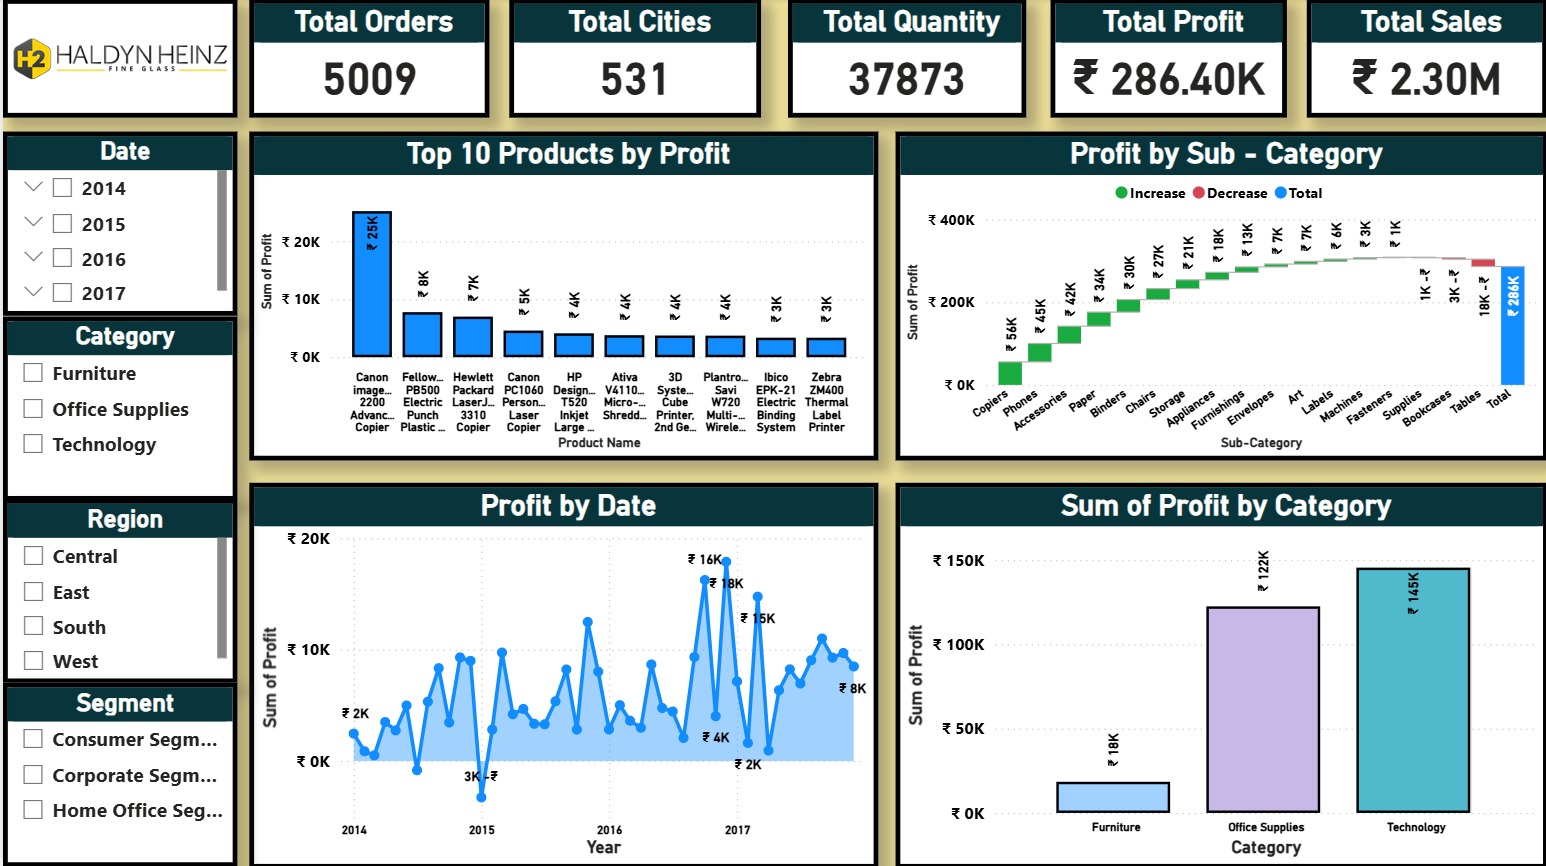

The page's visual inventory and layout, read from the dashboard file:
{"tool":"powerbi","page":{"name":"Profit Analysis","canvas":[1280,720],"ordinal":2},"visuals":[{"type":"columnChart","title":"Top 10 Products by Profit","fields":{"Category":["Orders.Product Name"],"Y":["Sum(Orders.Profit)"]},"box":[204.5,109.8,521.4,273.1],"z":0},{"type":"waterfallChart","title":"Profit by Sub - Category","fields":{"Category":["Orders.Sub-Category"],"Y":["Sum(Orders.Profit)"]},"box":[739.6,109.8,540.7,273.1],"z":1000},{"type":"areaChart","title":"Profit by Date","fields":{"Category":["Orders.Order Date.Variation.Date Hierarchy.Year","Orders.Order Date.Variation.Date Hierarchy.Quarter","Orders.Order Date.Variation.Date Hierarchy.Month","Orders.Order Date.Variation.Date Hierarchy.Day"],"Y":["Sum(Orders.Profit)"]},"box":[204.5,400.7,521.4,319.7],"z":2000},{"type":"columnChart","fields":{"Category":["Orders.Category","Orders.Sub-Category","Orders.Product Name"],"Y":["Sum(Orders.Profit)"]},"box":[739.6,400.7,540.7,319.7],"z":3000},{"type":"image","box":[0,0,194.8,98.8],"z":4000},{"type":"slicer","title":"Date","fields":{"Values":["Orders.Order Date.Variation.Date Hierarchy.Year","Orders.Order Date.Variation.Date Hierarchy.Quarter","Orders.Order Date.Variation.Date Hierarchy.Month","Orders.Order Date.Variation.Date Hierarchy.Day"]},"box":[0,109.9,194.8,153],"z":5000},{"type":"slicer","title":"Category","fields":{"Values":["Orders.Category"]},"box":[0,263,194.8,153],"z":6000},{"type":"slicer","title":"Region","fields":{"Values":["Orders.Region"]},"box":[0,414.6,194.8,153],"z":7000},{"type":"slicer","title":"Segment","fields":{"Values":["Orders.Segment"]},"box":[0,567,194.8,153],"z":8000},{"type":"card","title":"Total Sales","fields":{"Values":["Sum(Orders.Sales)"]},"box":[1081,0,199,98.8],"z":9000},{"type":"card","title":"Total Quantity","fields":{"Values":["Sum(Orders.Quantity)"]},"box":[651.1,0,197.6,98.8],"z":10000},{"type":"card","title":"Total Cities","fields":{"Values":["Count(Orders.City)"]},"box":[420.2,0,208.7,98.8],"z":11000},{"type":"card","title":"Total Orders","fields":{"Values":["Count(Orders.Order ID)"]},"box":[204.5,0,199,98.8],"z":12000},{"type":"card","title":"Total Profit","fields":{"Values":["Sum(Orders.Profit)"]},"box":[868.2,0,196.2,98.8],"z":13000}]}

Visuals, with their boxes in screenshot pixels (x1, y1, x2, y2), scaled from the page's 1280x720 canvas onto the 1546x866 screenshot:
"Top 10 Products by Profit" columnChart: [247,132,877,461]
"Profit by Sub - Category" waterfallChart: [893,132,1545,461]
"Profit by Date" areaChart: [247,482,877,865]
columnChart - Orders.Category x Orders.Sub-Category: [893,482,1545,865]
image: [0,0,235,119]
"Date" slicer: [0,132,235,316]
"Category" slicer: [0,316,235,500]
"Region" slicer: [0,499,235,683]
"Segment" slicer: [0,682,235,865]
"Total Sales" card: [1306,0,1545,119]
"Total Quantity" card: [786,0,1025,119]
"Total Cities" card: [508,0,760,119]
"Total Orders" card: [247,0,487,119]
"Total Profit" card: [1049,0,1286,119]
